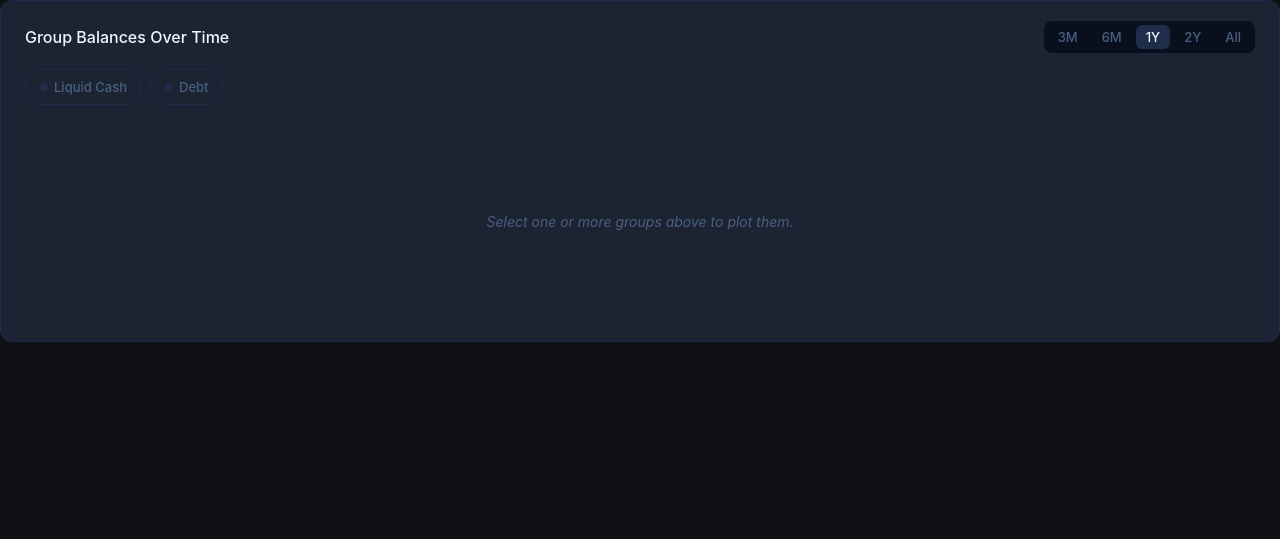
Test: GroupsTimeChart › deselects a chip on second click and returns to hint
The width and height of the screenshot is (1280, 539).
What coordinates should you click on to do the following:
click the button "Liquid Cash"
I would click on:
 (84, 87)
Its box is [25,69,142,105].
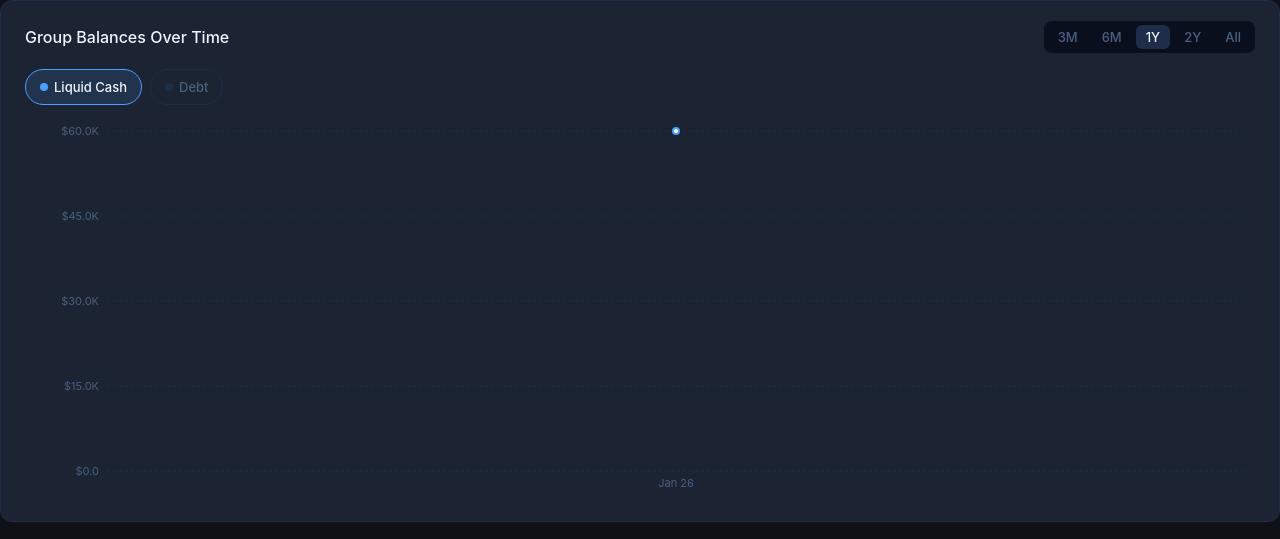
What coordinates should you click on to do the following:
click the button "Liquid Cash"
I would click on:
 (84, 87)
Its box is [25,69,142,105].
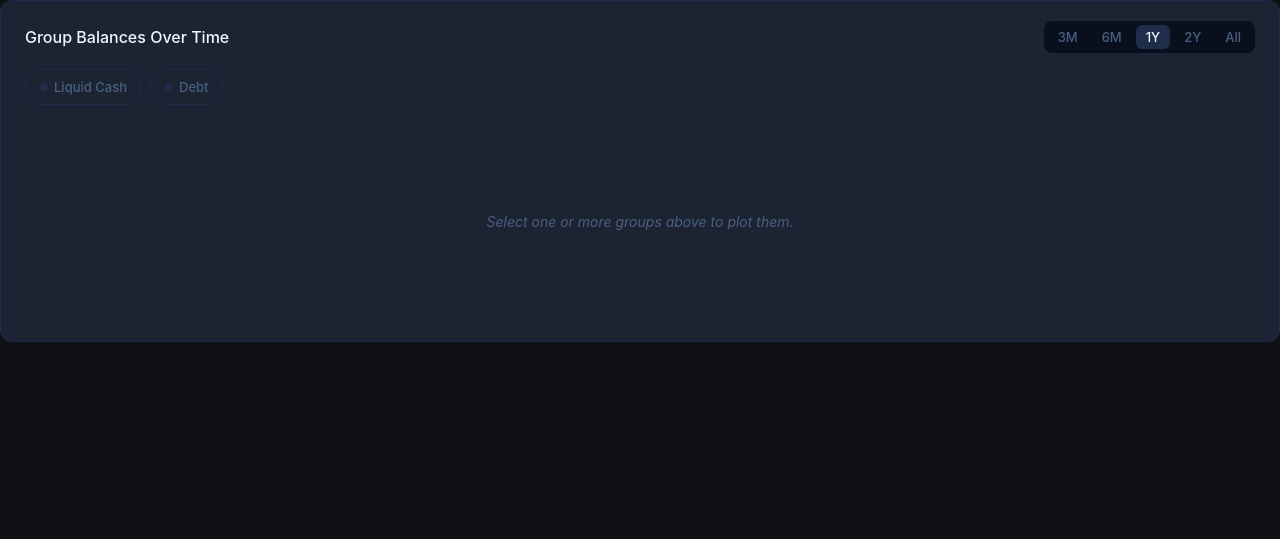
Result: the text "Select one or more groups above to plot them." is shown at [486,212,794,230]
